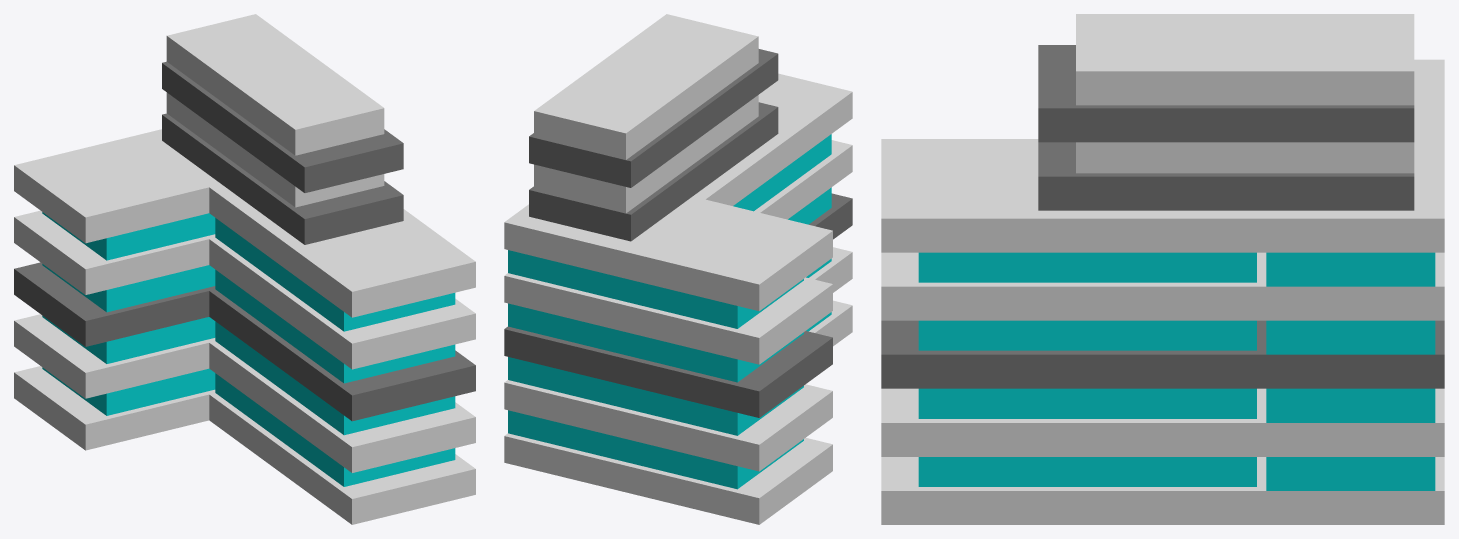
File: mansion02.fbx
The picture shows the model from 3 angles, left to right: view 1: azimuth 30°, elevation 25°; view 2: azimuth 150°, elevation 25°; view 3: azimuth 270°, elevation 25°; orthographic projection. The views are drawn at different scales.
Visible parts, largest first — view 1: pCube9 (×2), pCube3 (×3), pCube1 (×3), pCube4 (×3), pCube8 (×2), pCube5 (×2), pCube2 (×3), pCube6 (×2), pCube7 (×2); view 2: pCube9 (×2), pCube4 (×2), pCube1 (×3), pCube3 (×3), pCube8 (×2), pCube5 (×2), pCube2 (×2), pCube7 (×2), pCube6 (×2); view 3: pCube4 (×3), pCube9 (×2), pCube3 (×3), pCube1 (×3), pCube2 (×3), pCube5 (×2), pCube8 (×2), pCube7 (×2), pCube6 (×2).
Part boxes in pixels (box(x1,y1,x2,y2)): pCube9 (×2): box(14, 129, 475, 317); pCube3 (×3): box(14, 61, 475, 472); pCube1 (×3): box(14, 113, 475, 524); pCube4 (×3): box(42, 14, 455, 435); pCube8 (×2): box(14, 210, 475, 369); pCube5 (×2): box(14, 262, 475, 421); pCube2 (×3): box(42, 92, 455, 486); pCube6 (×2): box(42, 264, 455, 383); pCube7 (×2): box(42, 212, 455, 331); pCube9 (×2): box(504, 73, 852, 311); pCube4 (×2): box(508, 14, 803, 435); pCube1 (×3): box(504, 102, 852, 524); pCube3 (×3): box(504, 49, 852, 471); pCube8 (×2): box(504, 140, 852, 364); pCube5 (×2): box(504, 193, 852, 417); pCube2 (×2): box(508, 95, 803, 489); pCube7 (×2): box(508, 134, 831, 328); pCube6 (×2): box(508, 187, 831, 382); pCube4 (×3): box(918, 14, 1435, 422); pCube9 (×2): box(881, 59, 1444, 252); pCube3 (×3): box(881, 45, 1444, 456); pCube1 (×3): box(881, 142, 1444, 524); pCube2 (×3): box(918, 142, 1435, 490); pCube5 (×2): box(881, 320, 1444, 388); pCube8 (×2): box(881, 252, 1444, 320); pCube7 (×2): box(918, 252, 1435, 286); pCube6 (×2): box(918, 320, 1435, 354).
Size of the model in its own units: 20 by 26 by 30.
